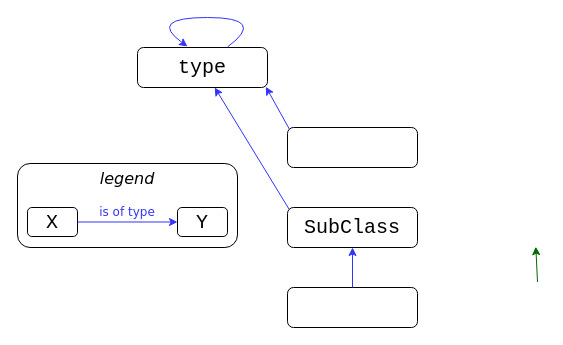
The diagram is 563 pixels wide and 345 high, and some of its shapes have lost their labels. Each missing label, with the centre of its shape:
"Class" belongs at (x=352, y=147).
"instance" belongs at (x=352, y=307).
